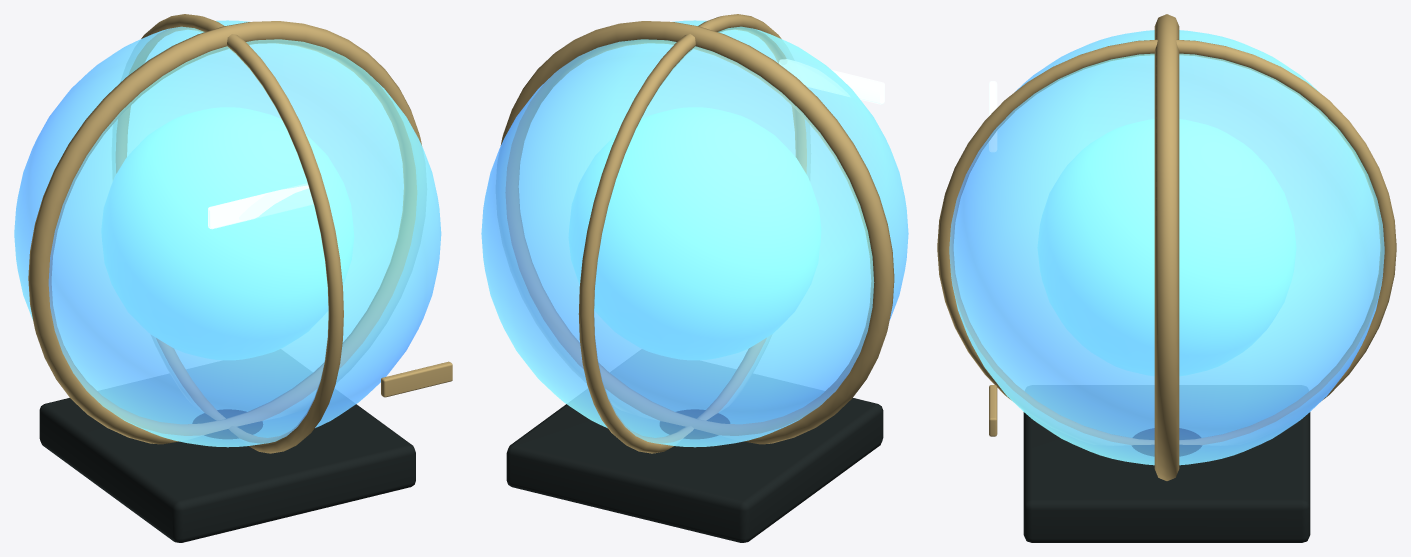
Rendered from age_museum_puzzle_orb_blue.glb.
3 renders of one model, left to right at view 1: azimuth 30°, elevation 25°; view 2: azimuth 150°, elevation 25°; view 3: azimuth 270°, elevation 25°, orthographic. The views are drawn at different scales.
Parts seen in each view (by area): view 1: puzzle_orb_blue_outer_glass, puzzle_orb_blue_core, puzzle_orb_blue_base_socket, puzzle_orb_blue_equator_brass, puzzle_orb_blue_vertical_brass, puzzle_orb_blue_cyan_reflection_plate, puzzle_orb_blue_small_accession_tag; view 2: puzzle_orb_blue_outer_glass, puzzle_orb_blue_core, puzzle_orb_blue_base_socket, puzzle_orb_blue_equator_brass, puzzle_orb_blue_vertical_brass, puzzle_orb_blue_cyan_reflection_plate; view 3: puzzle_orb_blue_outer_glass, puzzle_orb_blue_core, puzzle_orb_blue_base_socket, puzzle_orb_blue_vertical_brass, puzzle_orb_blue_equator_brass.
Boxes of the visible parts, bbox=[...] form: puzzle_orb_blue_outer_glass: bbox=[14, 20, 441, 447]; puzzle_orb_blue_core: bbox=[101, 107, 353, 359]; puzzle_orb_blue_base_socket: bbox=[39, 398, 415, 542]; puzzle_orb_blue_equator_brass: bbox=[28, 21, 421, 444]; puzzle_orb_blue_vertical_brass: bbox=[115, 14, 343, 453]; puzzle_orb_blue_cyan_reflection_plate: bbox=[208, 183, 312, 229]; puzzle_orb_blue_small_accession_tag: bbox=[381, 361, 452, 397]; puzzle_orb_blue_outer_glass: bbox=[481, 20, 908, 447]; puzzle_orb_blue_core: bbox=[568, 107, 821, 359]; puzzle_orb_blue_base_socket: bbox=[506, 398, 883, 542]; puzzle_orb_blue_equator_brass: bbox=[500, 21, 894, 444]; puzzle_orb_blue_vertical_brass: bbox=[578, 14, 806, 453]; puzzle_orb_blue_cyan_reflection_plate: bbox=[779, 59, 884, 104]; puzzle_orb_blue_outer_glass: bbox=[949, 30, 1384, 465]; puzzle_orb_blue_core: bbox=[1037, 119, 1296, 375]; puzzle_orb_blue_base_socket: bbox=[1023, 412, 1310, 542]; puzzle_orb_blue_vertical_brass: bbox=[937, 39, 1396, 444]; puzzle_orb_blue_equator_brass: bbox=[1154, 14, 1179, 480].
Size of the model in its own units: 0.686 by 0.728 by 0.674.
